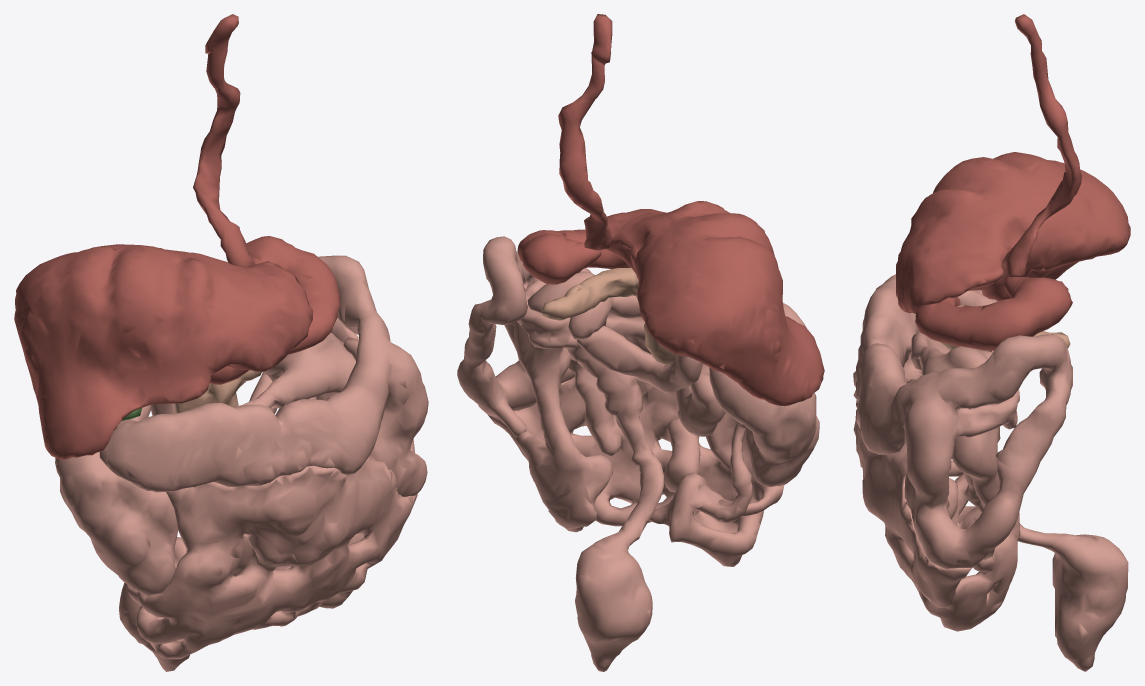
The model's file is tsd_s0196_older_adult_female.digestive.LOD3.glb.
3 views of the same model, side by side, from view 1: azimuth 30°, elevation 25°; view 2: azimuth 150°, elevation 25°; view 3: azimuth 270°, elevation 25° (orthographic). The views are drawn at different scales.
Parts seen in each view (by area): view 1: TSD_S0196.OLDER_ADULT.FEMALE.DIGESTIVE.COLON, TSD_S0196.OLDER_ADULT.FEMALE.DIGESTIVE.LIVER, TSD_S0196.OLDER_ADULT.FEMALE.DIGESTIVE.SMALL_BOWEL_JEJUNUM_A, TSD_S0196.OLDER_ADULT.FEMALE.DIGESTIVE.ESOPHAGUS, TSD_S0196.OLDER_ADULT.FEMALE.DIGESTIVE.STOMACH, TSD_S0196.OLDER_ADULT.FEMALE.DIGESTIVE.PANCREAS; view 2: TSD_S0196.OLDER_ADULT.FEMALE.DIGESTIVE.SMALL_BOWEL_JEJUNUM_A, TSD_S0196.OLDER_ADULT.FEMALE.DIGESTIVE.COLON, TSD_S0196.OLDER_ADULT.FEMALE.DIGESTIVE.LIVER, TSD_S0196.OLDER_ADULT.FEMALE.DIGESTIVE.ESOPHAGUS, TSD_S0196.OLDER_ADULT.FEMALE.DIGESTIVE.STOMACH, TSD_S0196.OLDER_ADULT.FEMALE.DIGESTIVE.DUODENUM, TSD_S0196.OLDER_ADULT.FEMALE.DIGESTIVE.PANCREAS; view 3: TSD_S0196.OLDER_ADULT.FEMALE.DIGESTIVE.COLON, TSD_S0196.OLDER_ADULT.FEMALE.DIGESTIVE.LIVER, TSD_S0196.OLDER_ADULT.FEMALE.DIGESTIVE.SMALL_BOWEL_JEJUNUM_A, TSD_S0196.OLDER_ADULT.FEMALE.DIGESTIVE.STOMACH, TSD_S0196.OLDER_ADULT.FEMALE.DIGESTIVE.ESOPHAGUS, TSD_S0196.OLDER_ADULT.FEMALE.DIGESTIVE.DUODENUM.
Boxes of the visible parts, x1,y1,x2,y2 form: TSD_S0196.OLDER_ADULT.FEMALE.DIGESTIVE.COLON: (55,255,428,671); TSD_S0196.OLDER_ADULT.FEMALE.DIGESTIVE.LIVER: (14,244,313,459); TSD_S0196.OLDER_ADULT.FEMALE.DIGESTIVE.SMALL_BOWEL_JEJUNUM_A: (118,332,417,659); TSD_S0196.OLDER_ADULT.FEMALE.DIGESTIVE.ESOPHAGUS: (193,14,255,266); TSD_S0196.OLDER_ADULT.FEMALE.DIGESTIVE.STOMACH: (210,236,340,384); TSD_S0196.OLDER_ADULT.FEMALE.DIGESTIVE.PANCREAS: (175,370,261,413); TSD_S0196.OLDER_ADULT.FEMALE.DIGESTIVE.SMALL_BOWEL_JEJUNUM_A: (488,271,784,566); TSD_S0196.OLDER_ADULT.FEMALE.DIGESTIVE.COLON: (457,236,819,671); TSD_S0196.OLDER_ADULT.FEMALE.DIGESTIVE.LIVER: (606,201,824,406); TSD_S0196.OLDER_ADULT.FEMALE.DIGESTIVE.ESOPHAGUS: (558,14,612,250); TSD_S0196.OLDER_ADULT.FEMALE.DIGESTIVE.STOMACH: (517,229,630,284); TSD_S0196.OLDER_ADULT.FEMALE.DIGESTIVE.DUODENUM: (577,326,702,393); TSD_S0196.OLDER_ADULT.FEMALE.DIGESTIVE.PANCREAS: (542,267,676,364); TSD_S0196.OLDER_ADULT.FEMALE.DIGESTIVE.COLON: (853,274,1128,671); TSD_S0196.OLDER_ADULT.FEMALE.DIGESTIVE.LIVER: (896,152,1130,313); TSD_S0196.OLDER_ADULT.FEMALE.DIGESTIVE.SMALL_BOWEL_JEJUNUM_A: (853,332,1020,631); TSD_S0196.OLDER_ADULT.FEMALE.DIGESTIVE.STOMACH: (915,277,1072,350); TSD_S0196.OLDER_ADULT.FEMALE.DIGESTIVE.ESOPHAGUS: (1006,14,1081,277); TSD_S0196.OLDER_ADULT.FEMALE.DIGESTIVE.DUODENUM: (958,290,996,351).
Size of the model in its own units: 0.2883 by 0.5014 by 0.1884.
